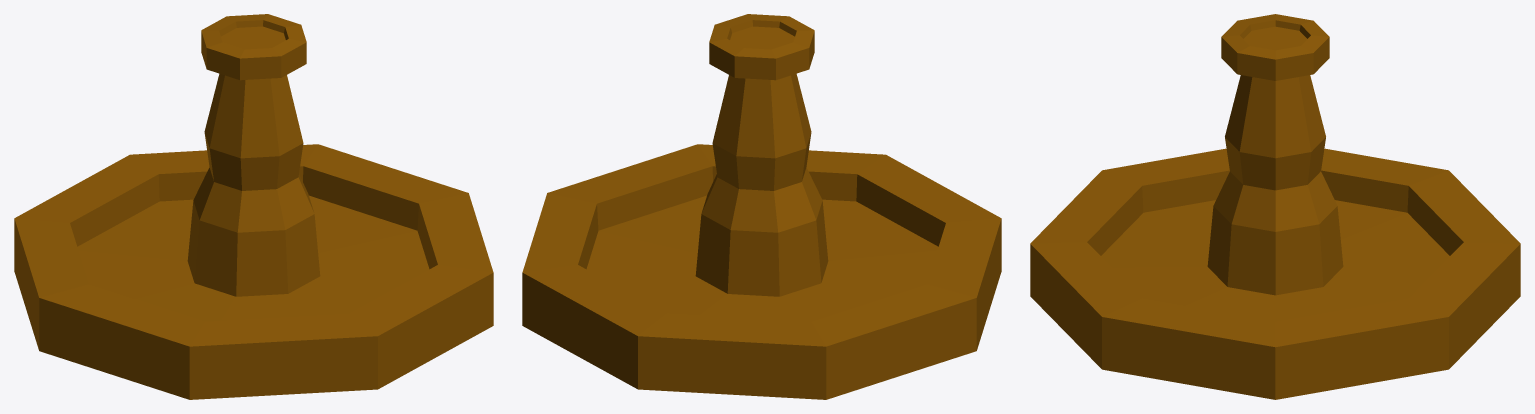
The model's file is park_shower.fbx.
3 views of the same model, side by side, from view 1: azimuth 30°, elevation 25°; view 2: azimuth 150°, elevation 25°; view 3: azimuth 270°, elevation 25° (orthographic).
Visible parts, largest first — view 1: WATER_SHOWER; view 2: WATER_SHOWER; view 3: WATER_SHOWER.
Boxes of the visible parts, box(x1,y1,x2,y2) form: WATER_SHOWER: box(14, 14, 493, 399); WATER_SHOWER: box(522, 14, 1001, 399); WATER_SHOWER: box(1030, 14, 1520, 399).
Size of the model in its own units: 52.1 by 30.59 by 52.1.
